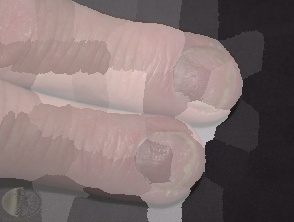Nail_psoriasis: (164, 35, 248, 121), (133, 127, 200, 199)
